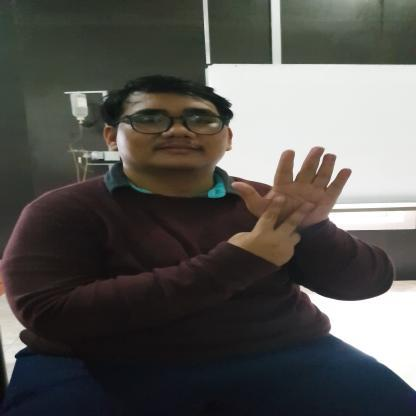N: (226, 144, 356, 258)
